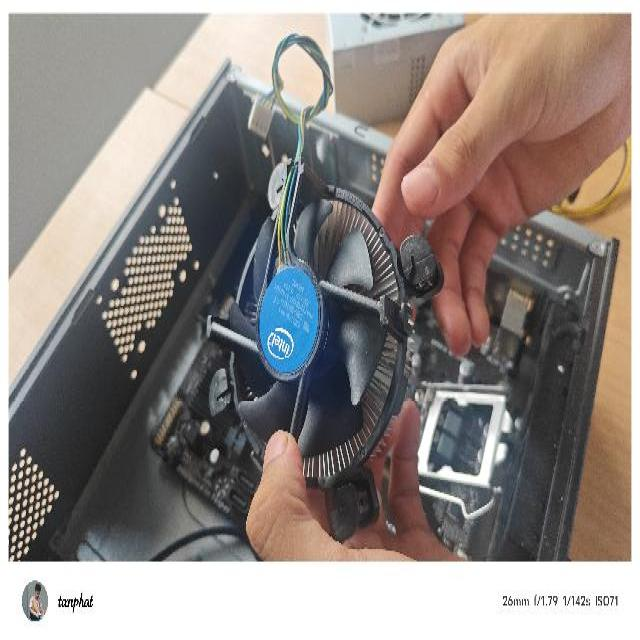CPU_Fan: (197, 154, 443, 544)
